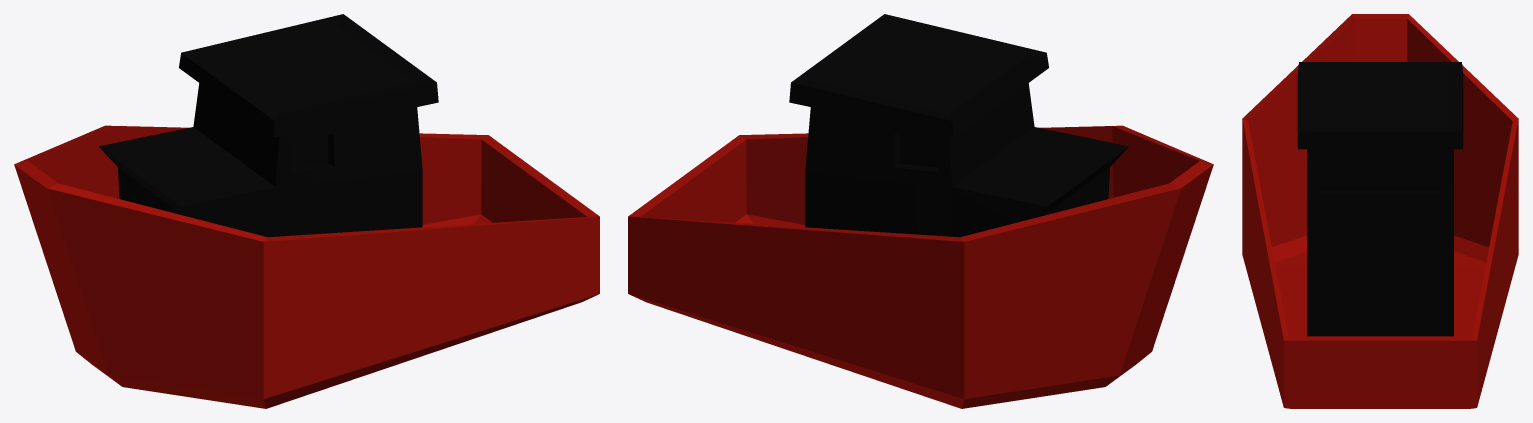
Rendered from boatt.fbx.
3 renders of one model, left to right at view 1: azimuth 30°, elevation 25°; view 2: azimuth 150°, elevation 25°; view 3: azimuth 270°, elevation 25°, orthographic. The views are drawn at different scales.
Parts seen in each view (by area): view 1: Plane, Cube; view 2: Plane, Cube; view 3: Plane, Cube.
Part boxes in pixels (left/top/right/bottom): Plane: left=14, top=125, right=599, bottom=408; Cube: left=99, top=14, right=438, bottom=237; Plane: left=628, top=125, right=1213, bottom=408; Cube: left=789, top=14, right=1128, bottom=237; Plane: left=1242, top=14, right=1518, bottom=408; Cube: left=1297, top=62, right=1463, bottom=336.
Size of the model in its own units: 771 by 372 by 412.
